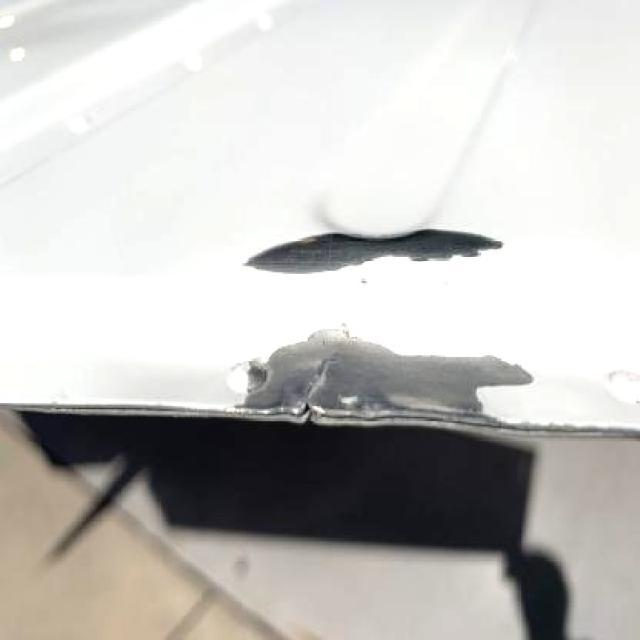crack: (278, 347, 344, 409)
